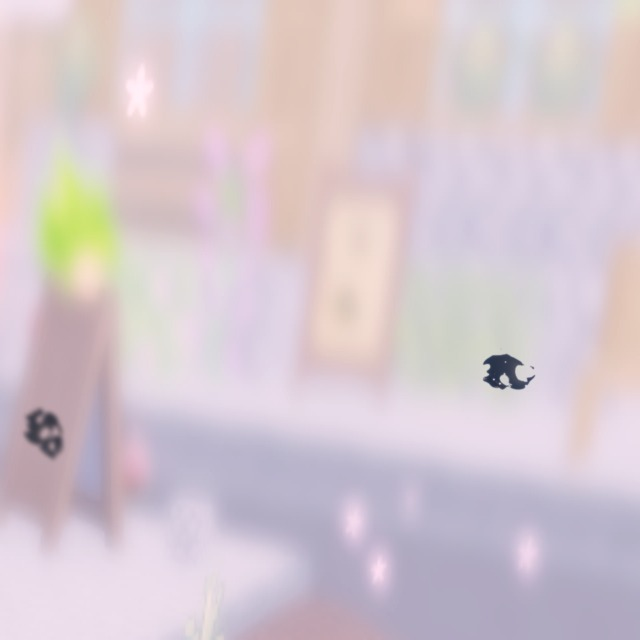urso_preto: (467, 338, 548, 407), (14, 403, 78, 471)
